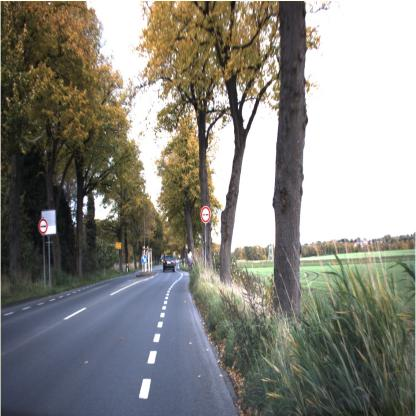keep right: (141, 254, 147, 264)
no overtaking trucks: (200, 205, 211, 223), (38, 218, 48, 234)
